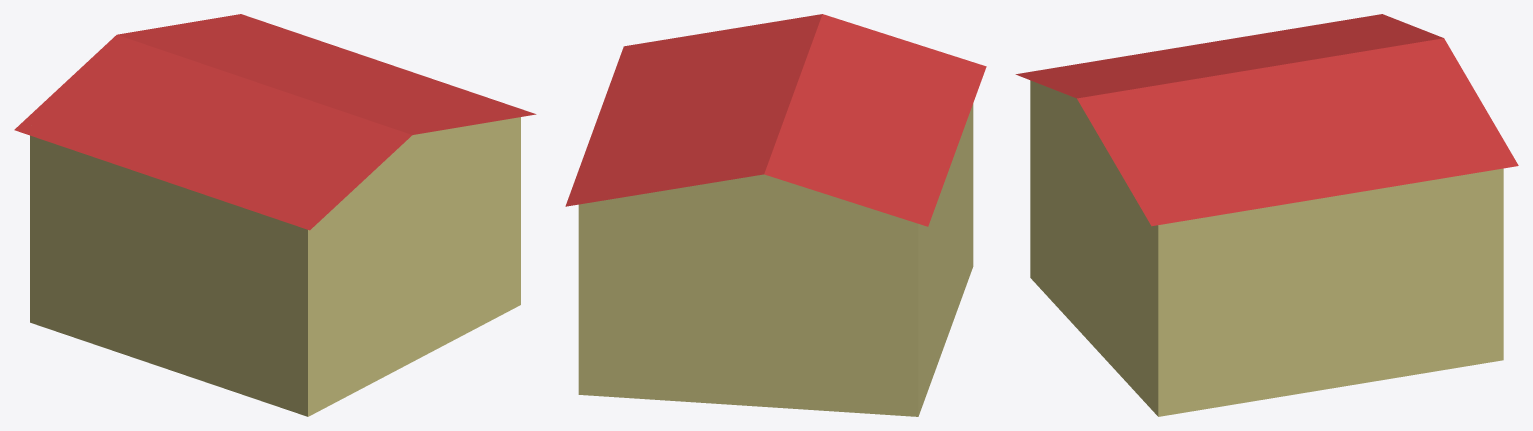
3 views of the same model, side by side, from view 1: azimuth 30°, elevation 25°; view 2: azimuth 150°, elevation 25°; view 3: azimuth 270°, elevation 25° (orthographic). The views are drawn at different scales.
Size of the model in its own units: 20.77 by 21.19 by 11.31.
